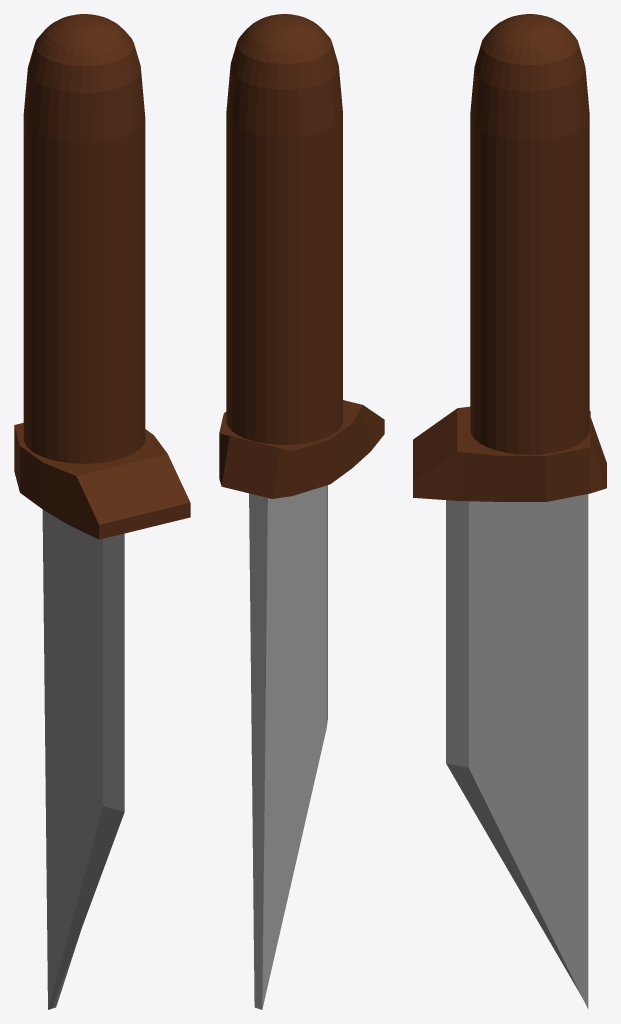
Rendered from nuž.fbx.
3 renders of one model, left to right at view 1: azimuth 30°, elevation 25°; view 2: azimuth 150°, elevation 25°; view 3: azimuth 270°, elevation 25°, orthographic. The views are drawn at different scales.
Visible parts, largest first — view 1: Cylinder, Cube; view 2: Cylinder, Cube; view 3: Cylinder, Cube.
Boxes of the visible parts, bbox=[...] form: Cylinder: bbox=[14, 14, 190, 539]; Cube: bbox=[42, 509, 124, 1009]; Cylinder: bbox=[219, 14, 384, 498]; Cube: bbox=[249, 485, 327, 1009]; Cylinder: bbox=[413, 14, 606, 501]; Cube: bbox=[446, 494, 588, 1008].
Size of the model in its own units: 211 by 1825 by 324.
